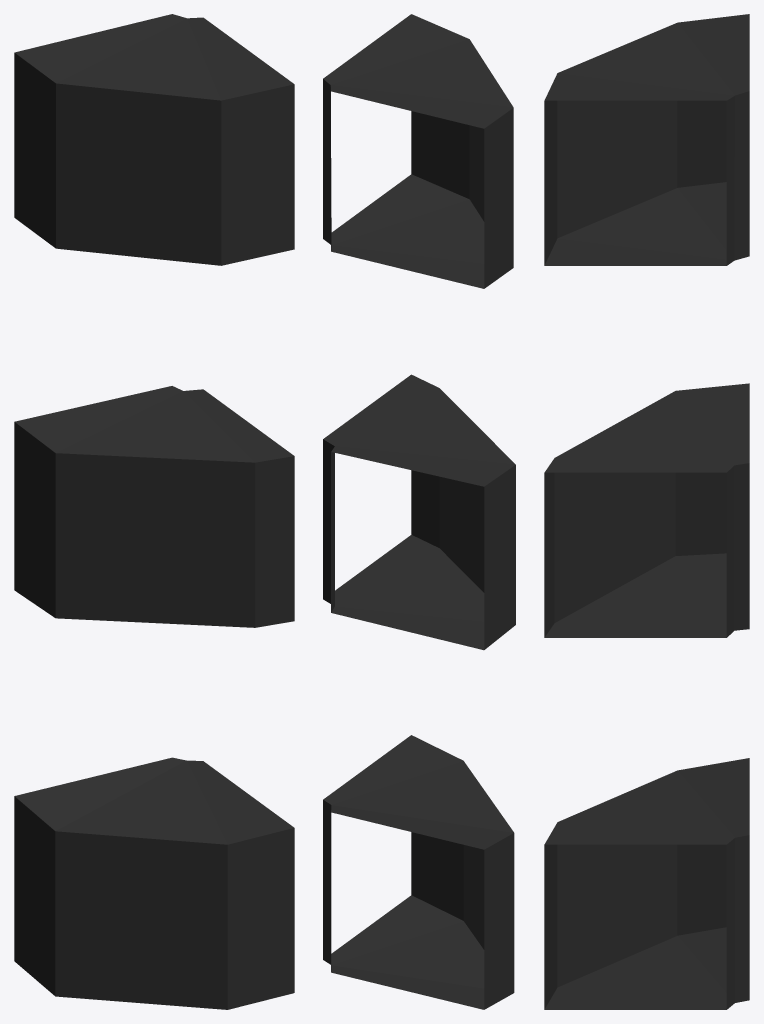
The model's file is SW_ENV_Wires3_Crnr_UltraShort.fbx.
3 renders of one model, left to right at view 1: azimuth 30°, elevation 25°; view 2: azimuth 150°, elevation 25°; view 3: azimuth 270°, elevation 25°, orthographic. The views are drawn at different scales.
Visible parts, largest first — view 1: SW_ENV_Wires3_Crnr_UltraShort; view 2: SW_ENV_Wires3_Crnr_UltraShort; view 3: SW_ENV_Wires3_Crnr_UltraShort.
Part boxes in pixels (x1,y1,x2,y2): SW_ENV_Wires3_Crnr_UltraShort: (14,14,294,1009); SW_ENV_Wires3_Crnr_UltraShort: (323,14,515,1009); SW_ENV_Wires3_Crnr_UltraShort: (544,14,749,1009).
Bounding box in the file's own units: 4.5 × 22.24 × 4.5.
